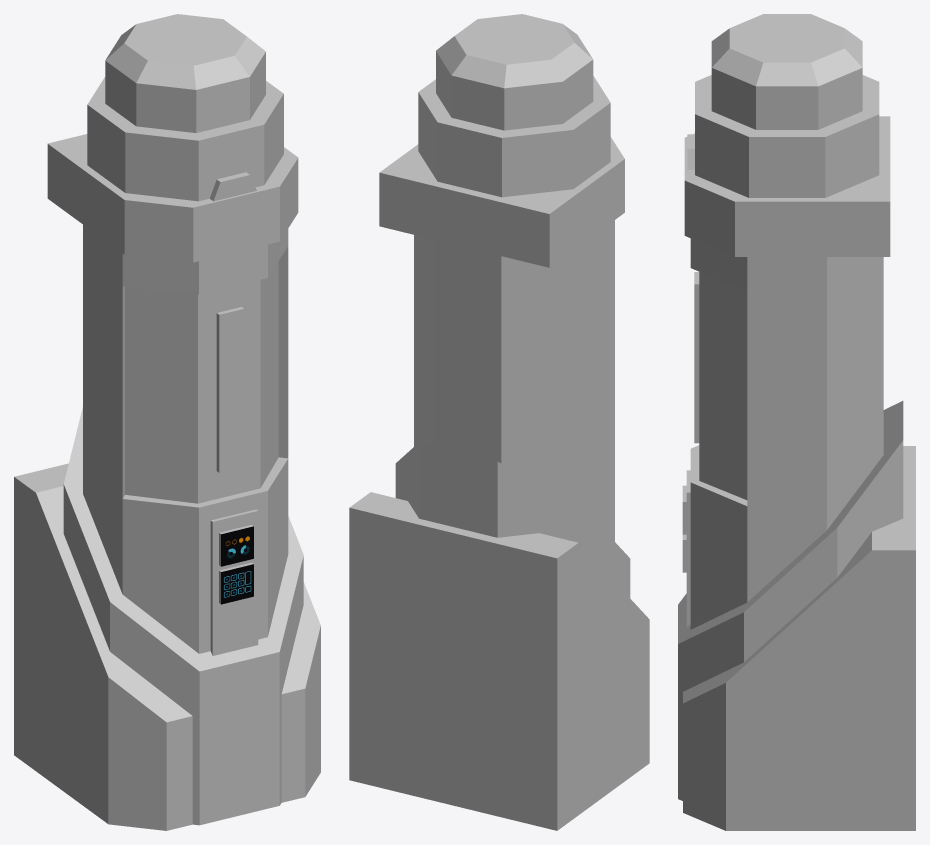
Rendered from SM_Container_Medium_2.fbx.
The picture shows the model from 3 angles, left to right: view 1: azimuth 30°, elevation 25°; view 2: azimuth 150°, elevation 25°; view 3: azimuth 270°, elevation 25°; orthographic projection. The views are drawn at different scales.
Visible parts, largest first — view 1: SM_Container_Medium_2; view 2: SM_Container_Medium_2; view 3: SM_Container_Medium_2.
Part boxes in pixels (x1,y1,x2,y2): SM_Container_Medium_2: [14, 14, 320, 830]; SM_Container_Medium_2: [349, 14, 649, 830]; SM_Container_Medium_2: [678, 14, 915, 830].
Bounding box in the file's own units: 118 × 391 × 114.
